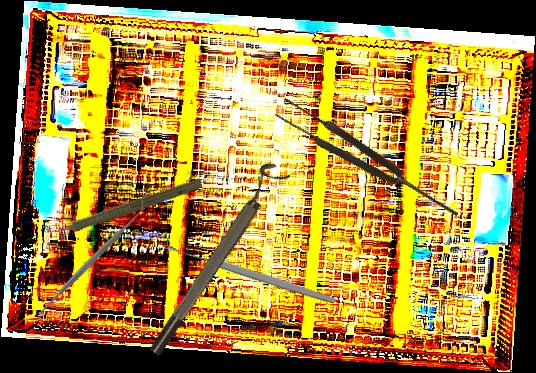Fixation Ring: (138, 158, 291, 359)
Handpiece: (44, 172, 204, 243)
Spatula Surgical: (29, 198, 154, 323)
Surgical Spoon: (165, 241, 338, 307)
Tissue Forceps: (273, 94, 464, 228)
